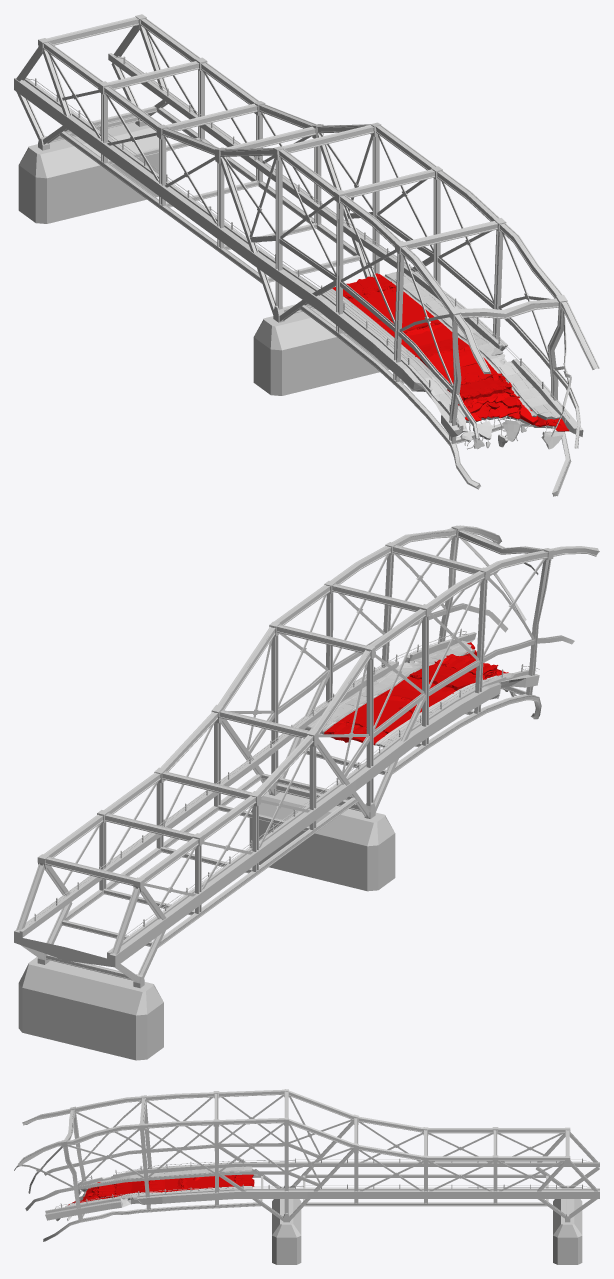
The model's file is SM_Env_Bridge_01.glb.
The picture shows the model from 3 angles, top to bottom: view 1: azimuth 30°, elevation 25°; view 2: azimuth 150°, elevation 25°; view 3: azimuth 270°, elevation 25°; orthographic projection. The views are drawn at different scales.
Parts seen in each view (by area): view 1: SM_Env_Bridge_01; view 2: SM_Env_Bridge_01; view 3: SM_Env_Bridge_01.
Part boxes in pixels (x1=…): SM_Env_Bridge_01: x1=14, y1=14, x2=599, y2=496; SM_Env_Bridge_01: x1=14, y1=525, x2=599, y2=1060; SM_Env_Bridge_01: x1=14, y1=1089, x2=599, y2=1264.
Size of the model in its own units: 25.92 by 44.91 by 168.
